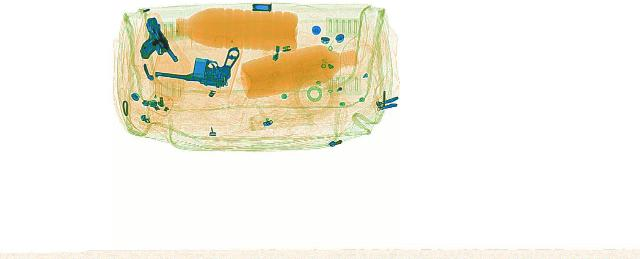Gun: (151, 41, 255, 87), (126, 15, 178, 62)
